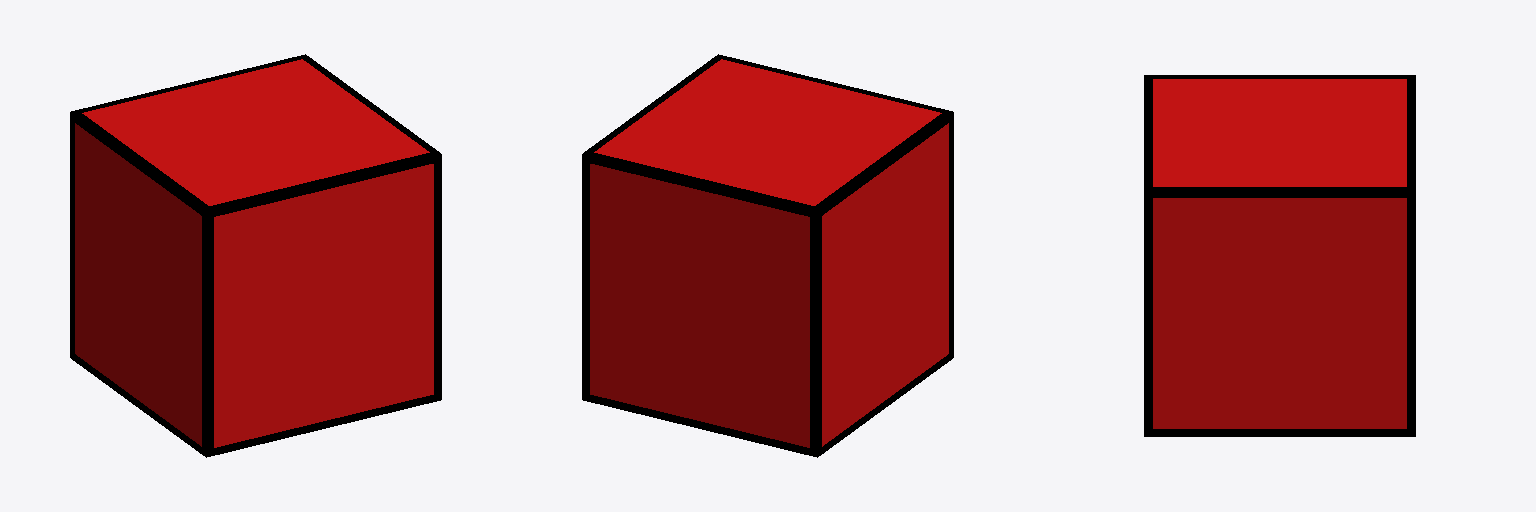
The picture shows the model from 3 angles: view 1: azimuth 30°, elevation 25°; view 2: azimuth 150°, elevation 25°; view 3: azimuth 270°, elevation 25°; orthographic projection.
Parts seen in each view (by area): view 1: Cube; view 2: Cube; view 3: Cube.
Part boxes in pixels (x1,y1,x2,y2): Cube: (70, 54, 441, 457); Cube: (582, 54, 953, 457); Cube: (1144, 75, 1415, 436).
Bounding box in the file's own units: 1 × 1 × 1.
Materials: 1 (1 with a texture image).